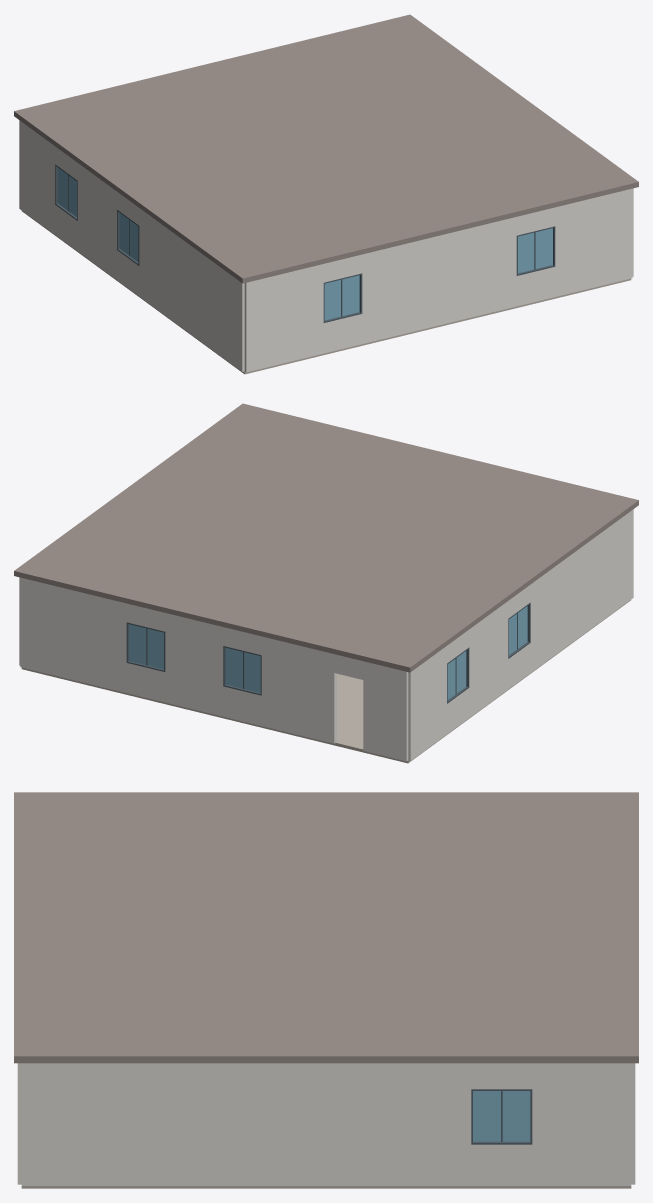
Rendered from new-home-c4c07771b7.glb.
3 renders of one model, top to bottom at view 1: azimuth 30°, elevation 25°; view 2: azimuth 150°, elevation 25°; view 3: azimuth 270°, elevation 25°, orthographic. The views are drawn at different scales.
Visible parts, largest first — view 1: roof_0, wall_0_13, wall_0_17, wall_0_12, wall_0_14, wall_0_16, wall_0_15, window_0_0_pane, window_0_1_pane, wall_0_29, wall_0_32, floor_slab_0 (+6 smaller); view 2: roof_0, wall_0_3, wall_0_17, wall_0_1, wall_0_2, wall_0_0, wall_0_16, wall_0_15, floor_slab_0, window_0_4_pane, window_0_6_pane, wall_0_49 (+8 smaller); view 3: roof_0, wall_0_26, wall_0_25, window_0_5_pane, wall_0_47, floor_slab_0, wall_0_46, wall_0_3, wall_0_14.
Boxes of the visible parts, x1=… form: roof_0: x1=14, y1=14, x2=638, y2=283; wall_0_13: x1=362, y1=217, x2=516, y2=343; wall_0_17: x1=139, y1=208, x2=244, y2=371; wall_0_12: x1=244, y1=264, x2=323, y2=372; wall_0_14: x1=555, y1=188, x2=632, y2=296; wall_0_16: x1=77, y1=163, x2=116, y2=279; wall_0_15: x1=19, y1=120, x2=55, y2=234; window_0_0_pane: x1=324, y1=275, x2=359, y2=320; window_0_1_pane: x1=518, y1=228, x2=552, y2=273; wall_0_29: x1=323, y1=314, x2=362, y2=353; wall_0_32: x1=516, y1=267, x2=555, y2=306; floor_slab_0: x1=22, y1=211, x2=631, y2=374; roof_0: x1=14, y1=403, x2=638, y2=672; wall_0_3: x1=20, y1=577, x2=126, y2=692; wall_0_17: x1=530, y1=509, x2=633, y2=672; wall_0_1: x1=261, y1=636, x2=336, y2=743; wall_0_2: x1=165, y1=613, x2=223, y2=716; wall_0_0: x1=363, y1=661, x2=408, y2=761; wall_0_16: x1=469, y1=601, x2=508, y2=717; wall_0_15: x1=408, y1=646, x2=446, y2=760; floor_slab_0: x1=21, y1=600, x2=630, y2=763; window_0_4_pane: x1=225, y1=648, x2=260, y2=692; window_0_6_pane: x1=129, y1=624, x2=163, y2=669; wall_0_49: x1=126, y1=663, x2=165, y2=702; roof_0: x1=14, y1=792, x2=638, y2=1063; wall_0_26: x1=21, y1=1063, x2=471, y2=1185; wall_0_25: x1=532, y1=1063, x2=631, y2=1185; window_0_5_pane: x1=473, y1=1091, x2=530, y2=1141; wall_0_47: x1=471, y1=1144, x2=532, y2=1185; floor_slab_0: x1=21, y1=1186, x2=631, y2=1188; wall_0_46: x1=471, y1=1063, x2=532, y2=1089; wall_0_3: x1=631, y1=1063, x2=635, y2=1184; wall_0_14: x1=17, y1=1063, x2=21, y2=1184.
Size of the model in its own units: 41 by 9.8 by 41.
